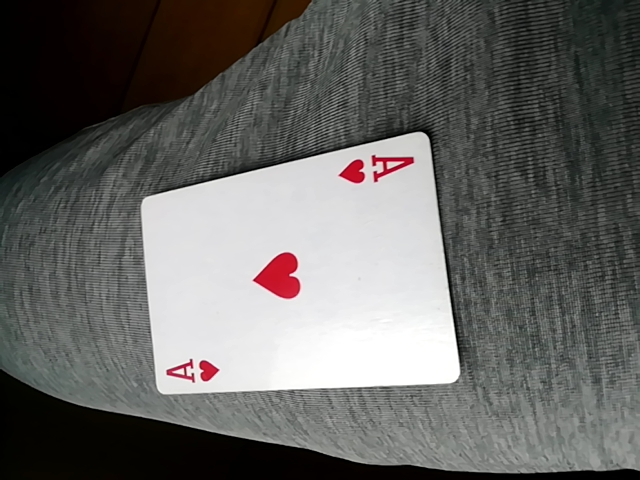hx a: (141, 134, 459, 394)
